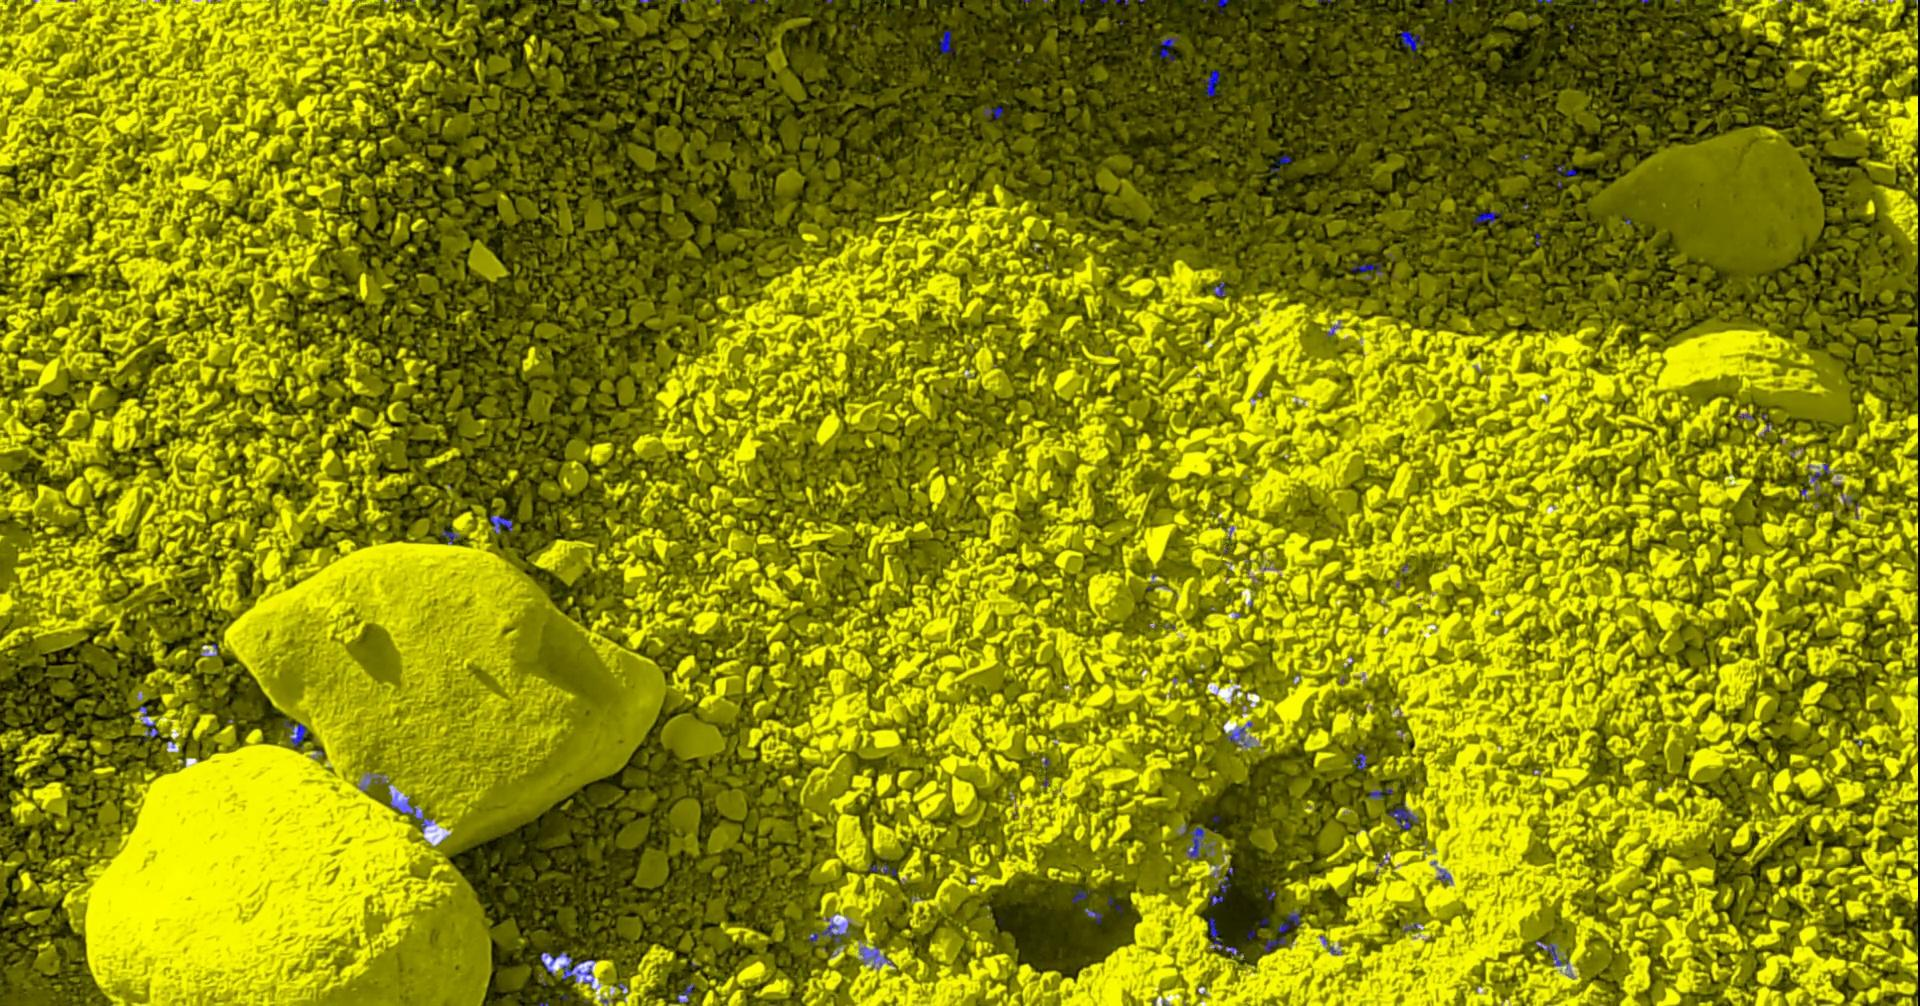ant: (538, 951, 593, 982), (389, 796, 430, 832), (1208, 917, 1242, 955), (808, 923, 850, 948), (1208, 866, 1233, 904), (1387, 800, 1418, 829), (1535, 940, 1568, 965), (1183, 826, 1204, 857), (1399, 30, 1423, 57), (283, 721, 306, 747), (1277, 911, 1299, 932), (1203, 69, 1219, 97), (489, 514, 512, 533), (676, 981, 693, 1005), (1159, 36, 1176, 61), (1225, 727, 1247, 746), (869, 862, 895, 876), (1351, 260, 1383, 272), (1808, 464, 1829, 481), (1269, 155, 1290, 171), (1473, 211, 1501, 224), (439, 525, 458, 542), (938, 30, 952, 55), (1263, 937, 1286, 951), (1070, 887, 1090, 903), (983, 105, 1003, 119), (1556, 163, 1576, 177), (1084, 907, 1101, 923), (143, 720, 157, 737), (1352, 752, 1366, 768), (1368, 788, 1393, 796), (1211, 282, 1225, 296)
